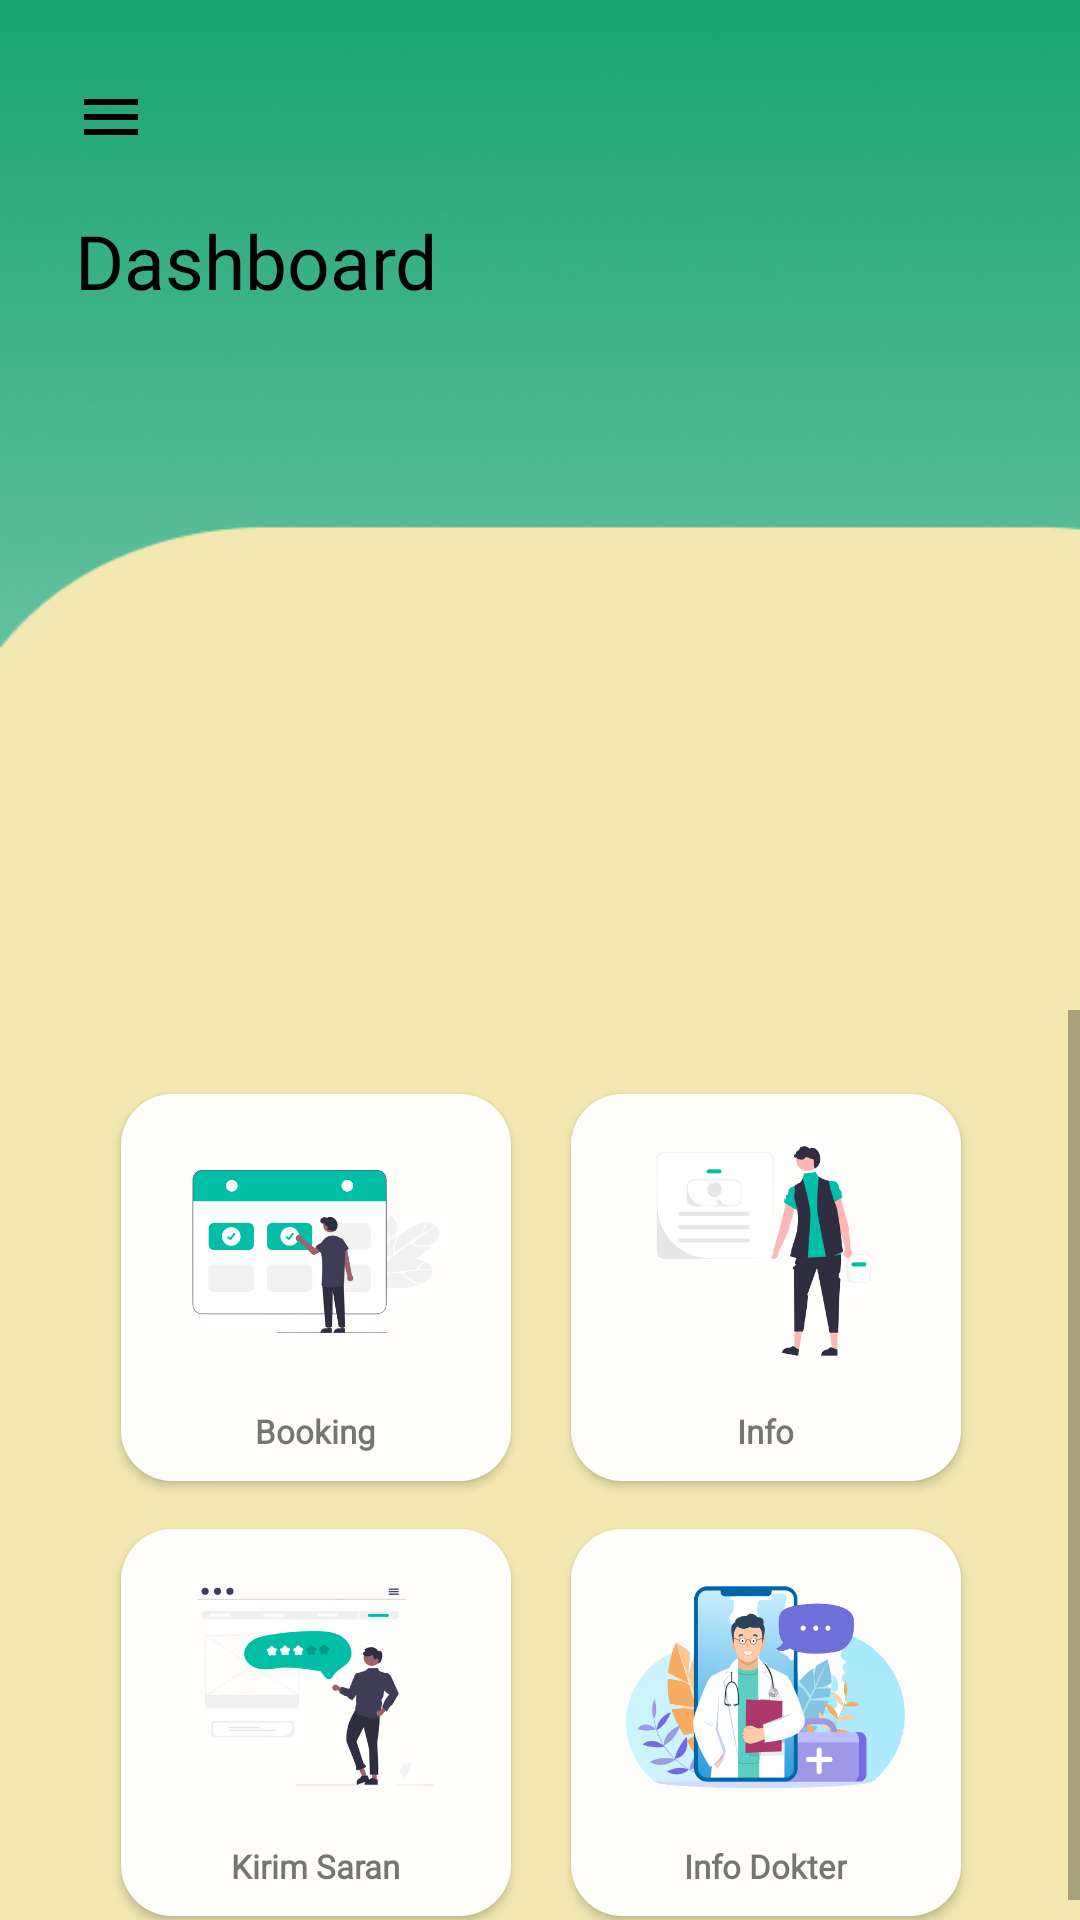

Where to tap for icons on this 1080px×1920px app screen, as point (x, y):
menu: point (111, 117)
tentang kami: point (762, 1251)
